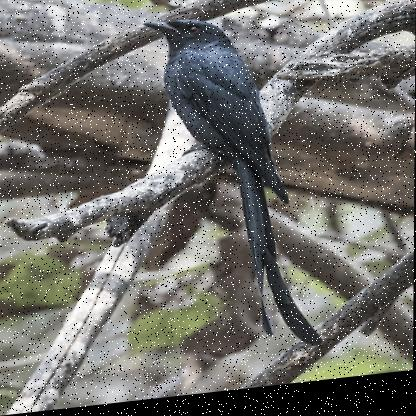Burung: (138, 10, 328, 374)
